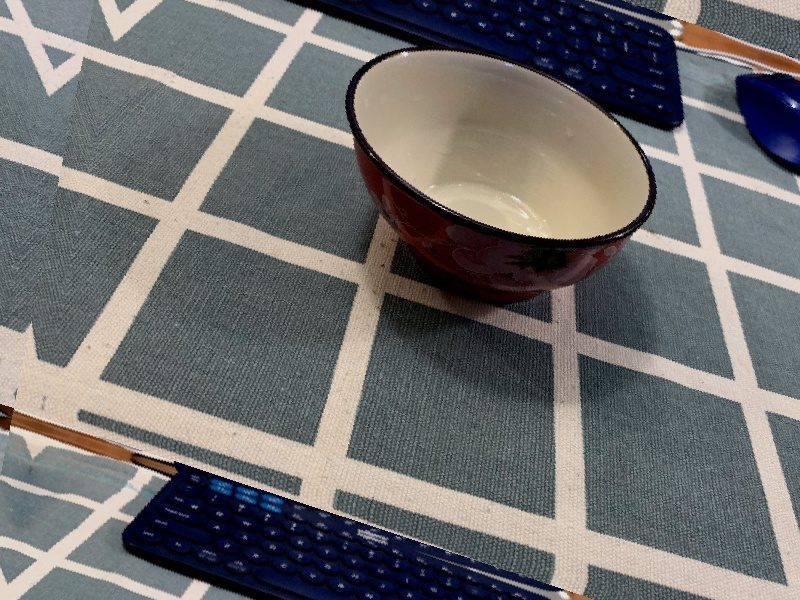bowl_small: (310, 4, 683, 359)
